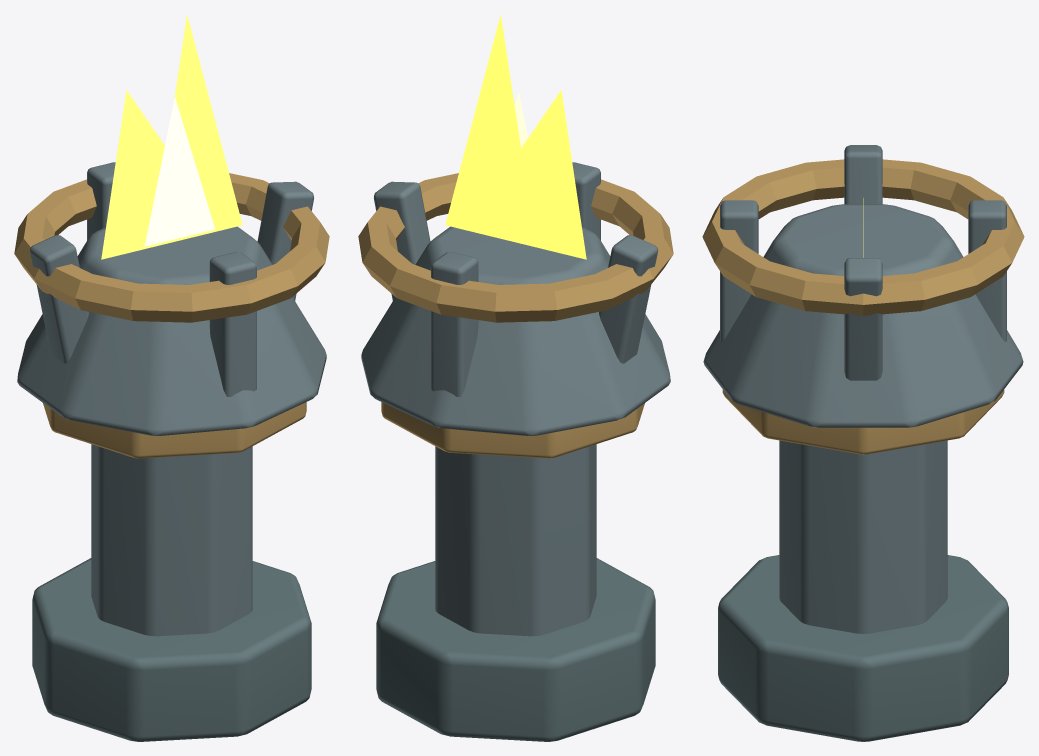
Rendered from SM_CampBrazier_01.fbx.
The picture shows the model from 3 angles, left to right: view 1: azimuth 30°, elevation 25°; view 2: azimuth 150°, elevation 25°; view 3: azimuth 270°, elevation 25°; orthographic projection.
Parts seen in each view (by area): view 1: SM_CampBrazier_01; view 2: SM_CampBrazier_01; view 3: SM_CampBrazier_01.
Part boxes in pixels (x1,y1,x2,y2): SM_CampBrazier_01: (14, 14, 329, 741); SM_CampBrazier_01: (358, 14, 673, 741); SM_CampBrazier_01: (702, 145, 1024, 741).
Bounding box in the file's own units: 1.09 × 2.53 × 1.09.
